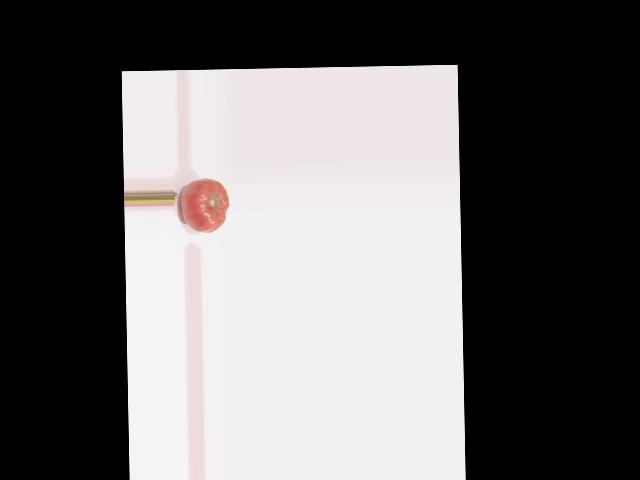tomato: (180, 178, 229, 232)
